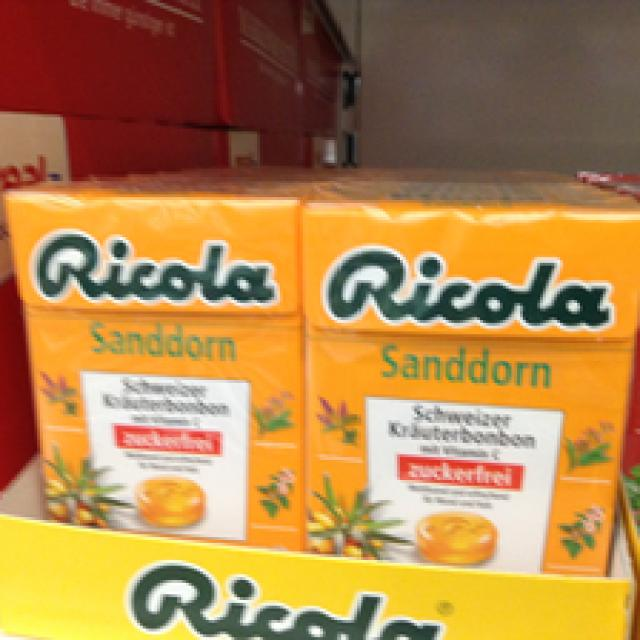groceries: (306, 188, 626, 588), (3, 183, 300, 557)
